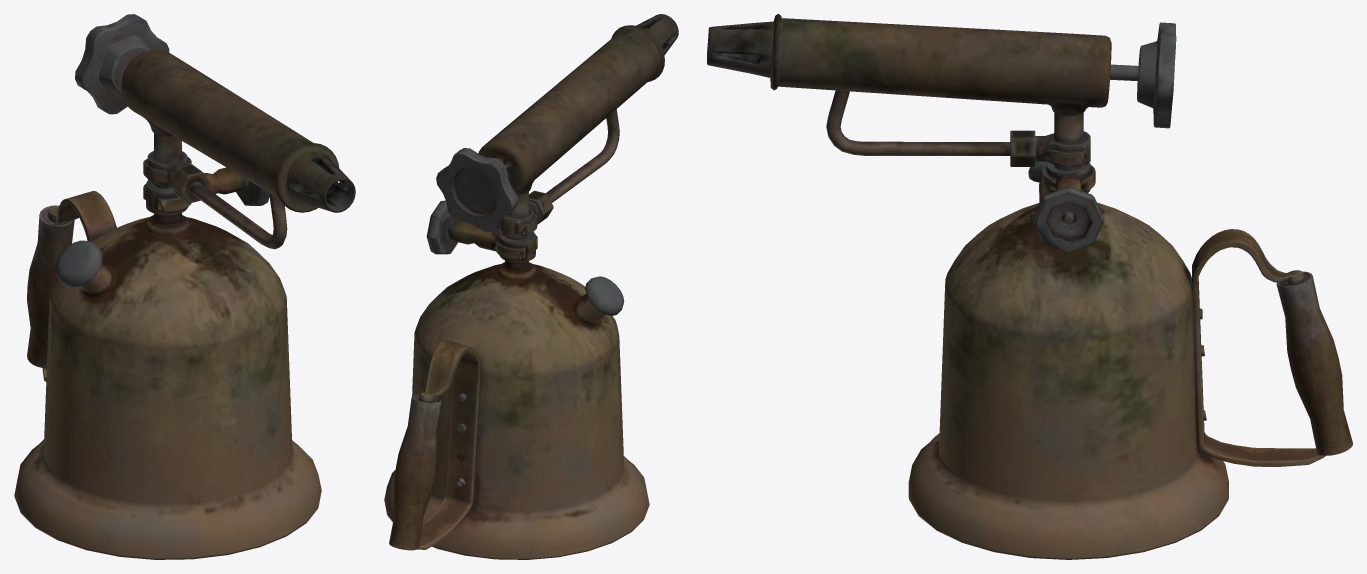
Rendered from brass_blowtorch.efca8bda.glb.
The picture shows the model from 3 angles, left to right: view 1: azimuth 30°, elevation 25°; view 2: azimuth 150°, elevation 25°; view 3: azimuth 270°, elevation 25°; orthographic projection. The views are drawn at different scales.
Visible parts, largest first — view 1: brass_blowtorch; view 2: brass_blowtorch; view 3: brass_blowtorch.
Part boxes in pixels (left/top/right/bottom): brass_blowtorch: left=14, top=14, right=355, bottom=559; brass_blowtorch: left=384, top=14, right=678, bottom=559; brass_blowtorch: left=707, top=14, right=1352, bottom=559.
Bounding box in the file's own units: 0.3594 × 0.5848 × 0.72.
Materials: 1 (1 with a texture image).
